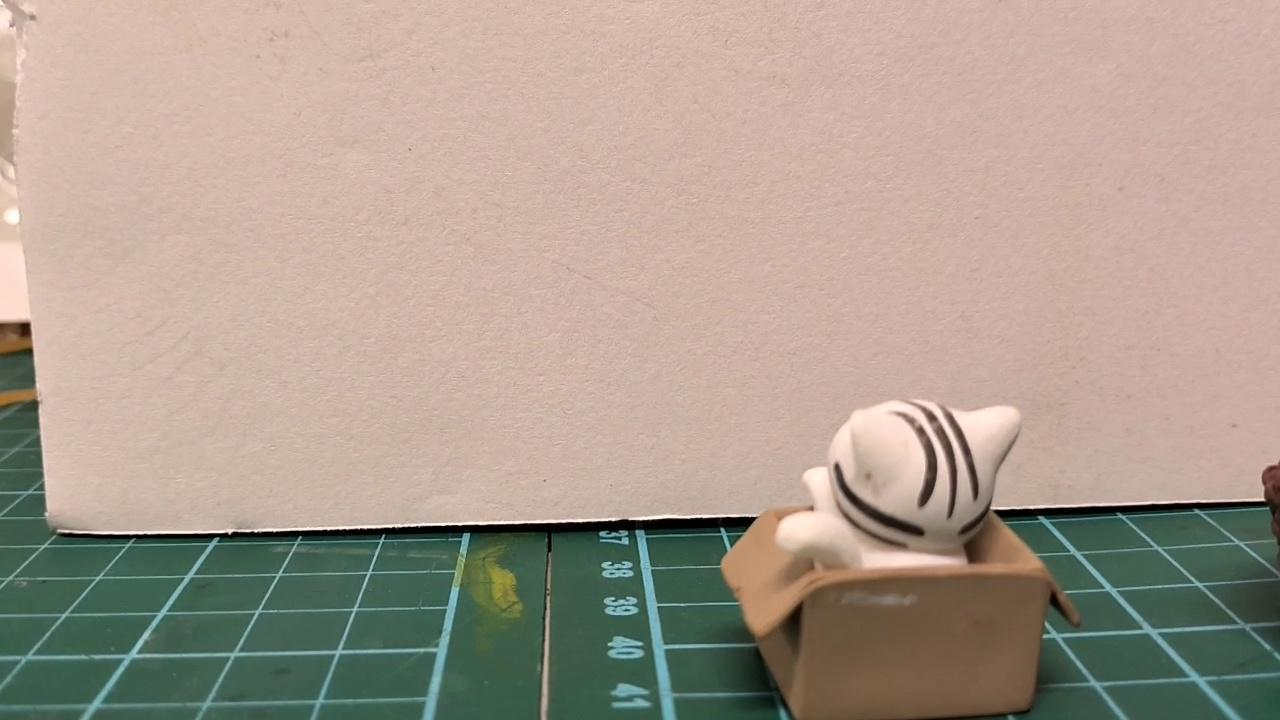pet: (769, 399, 1020, 566)
